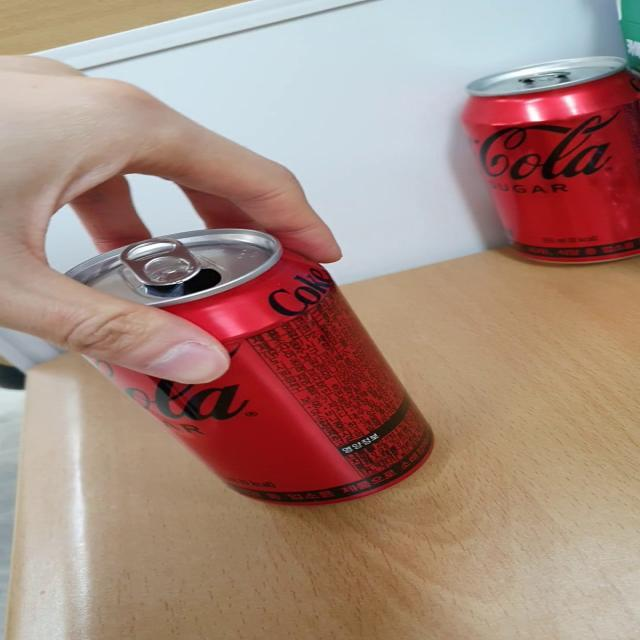coca-cola: (35, 218, 478, 514), (440, 56, 640, 286)
